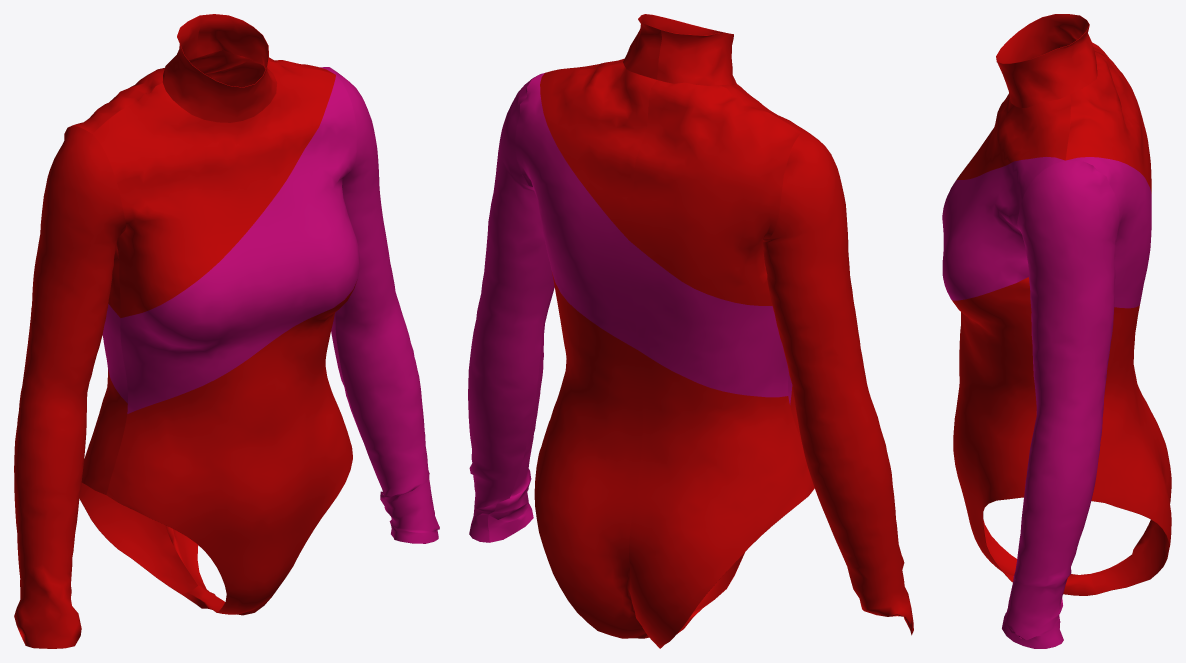
3 views of the same model, side by side, from view 1: azimuth 30°, elevation 25°; view 2: azimuth 150°, elevation 25°; view 3: azimuth 270°, elevation 25° (orthographic). The views are drawn at different scales.
Parts seen in each view (by area): view 1: Pattern2D_713644, SLE, Pattern2D_713516, Pattern2D_530152, SLE_1, Pattern2D_569657, Pattern2D_408223, Pattern2D_550291, Pattern2D_563137, Pattern2D_569619, Pattern2D_556861; view 2: SLE, Pattern2D_569657, Pattern2D_563137, Pattern2D_556861, SLE_1, Pattern2D_569619, Pattern2D_556758, Pattern2D_550291, Pattern2D_408223, Pattern2D_713644, Pattern2D_530152; view 3: SLE_1, Pattern2D_713644, Pattern2D_556861, Pattern2D_713516, Pattern2D_408223, Pattern2D_530152, Pattern2D_556758, Pattern2D_550291, Pattern2D_563137, Pattern2D_569657.
Boxes of the visible parts, bbox=[...] form: Pattern2D_713644: bbox=[106, 281, 356, 615]; SLE: bbox=[14, 125, 125, 648]; Pattern2D_713516: bbox=[120, 75, 359, 413]; Pattern2D_530152: bbox=[93, 62, 335, 317]; SLE_1: bbox=[330, 67, 439, 543]; Pattern2D_569657: bbox=[79, 369, 198, 594]; Pattern2D_408223: bbox=[162, 14, 277, 122]; Pattern2D_550291: bbox=[189, 50, 335, 87]; Pattern2D_563137: bbox=[68, 60, 189, 317]; Pattern2D_569619: bbox=[102, 304, 127, 403]; Pattern2D_556861: bbox=[165, 525, 206, 588]; SLE: bbox=[763, 131, 913, 635]; Pattern2D_569657: bbox=[629, 350, 814, 648]; Pattern2D_563137: bbox=[629, 80, 800, 305]; Pattern2D_556861: bbox=[534, 272, 646, 638]; SLE_1: bbox=[468, 73, 554, 542]; Pattern2D_569619: bbox=[629, 241, 788, 397]; Pattern2D_556758: bbox=[515, 73, 638, 349]; Pattern2D_550291: bbox=[540, 62, 656, 239]; Pattern2D_408223: bbox=[623, 14, 736, 85]; Pattern2D_713644: bbox=[644, 385, 801, 638]; Pattern2D_530152: bbox=[561, 58, 808, 132]; SLE_1: bbox=[1002, 160, 1119, 648]; Pattern2D_713644: bbox=[952, 277, 1096, 595]; Pattern2D_556861: bbox=[1090, 305, 1171, 594]; Pattern2D_713516: bbox=[942, 157, 1064, 300]; Pattern2D_408223: bbox=[996, 14, 1097, 108]; Pattern2D_530152: bbox=[956, 93, 1071, 179]; Pattern2D_556758: bbox=[1066, 157, 1151, 308]; Pattern2D_550291: bbox=[1065, 68, 1151, 193]; Pattern2D_563137: bbox=[1092, 42, 1151, 190]; Pattern2D_569657: bbox=[1100, 365, 1171, 571].
Bounding box in the file's own units: 55.9 × 75.06 × 27.57.
